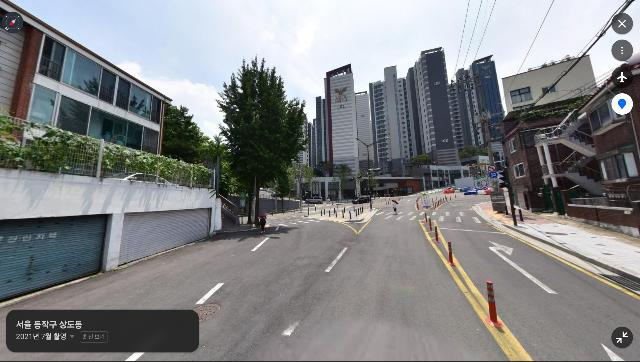other: (212, 54, 307, 228), (161, 105, 219, 176), (291, 163, 314, 210), (334, 163, 352, 200), (362, 168, 378, 199)
